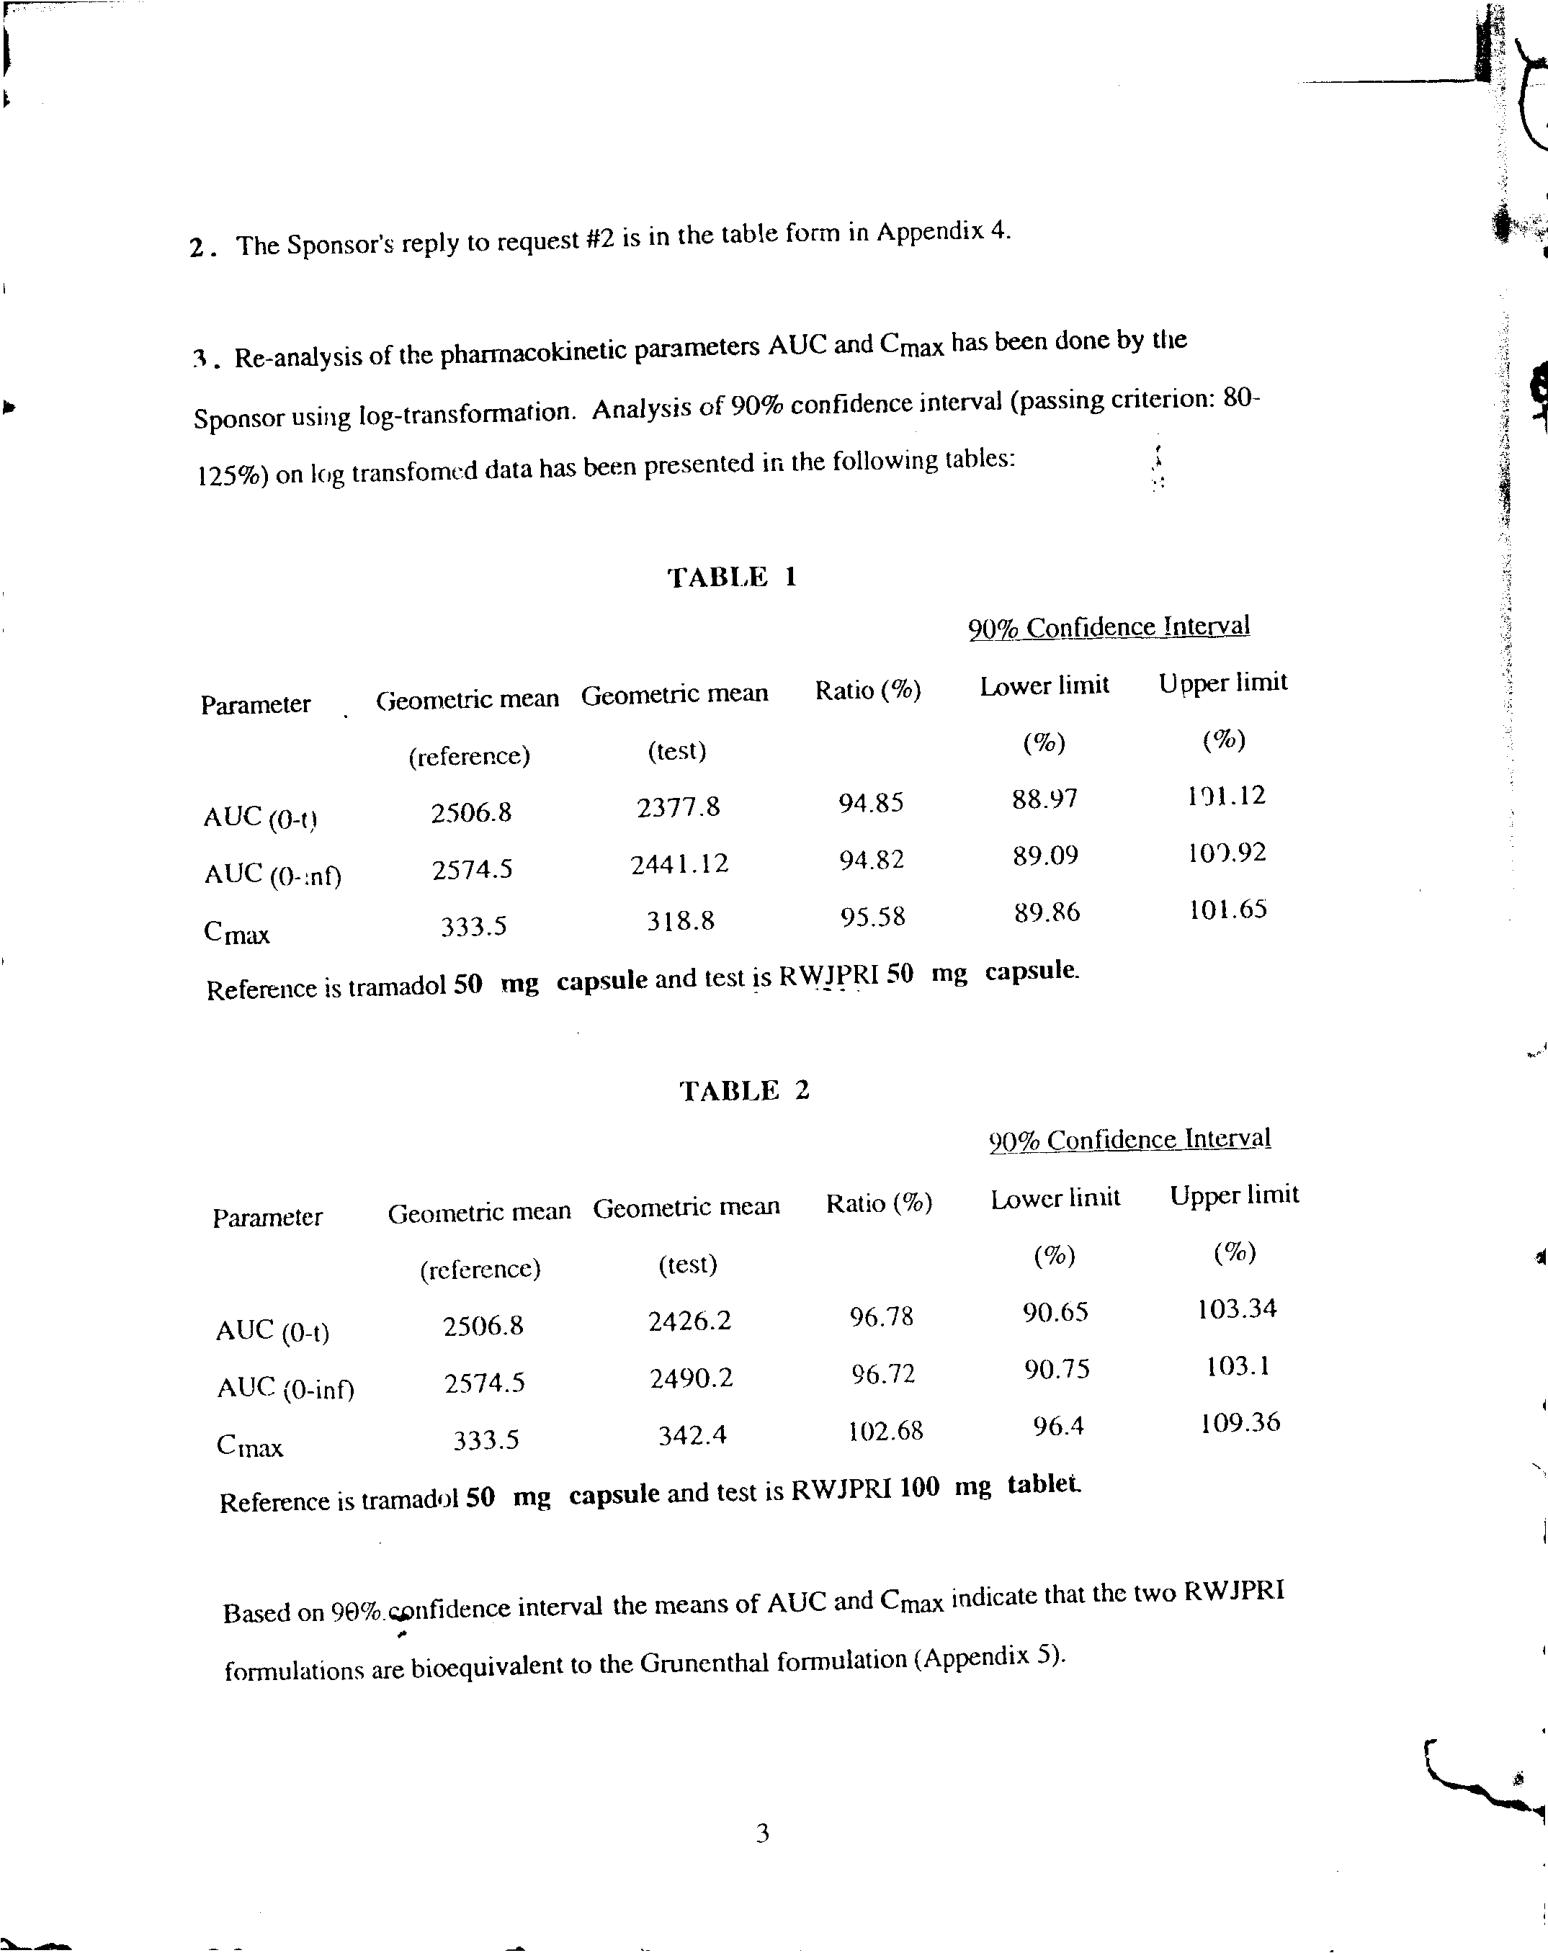nolines: (198, 604, 1298, 1007), (209, 1126, 1304, 1466)
